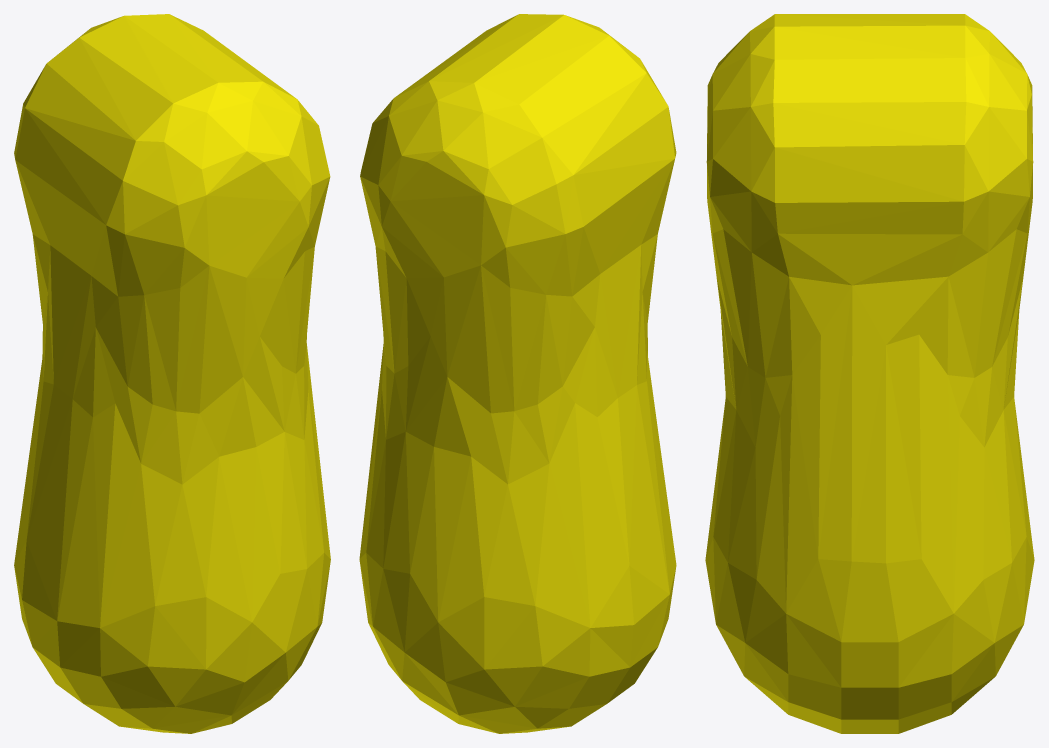
3 renders of one model, left to right at view 1: azimuth 30°, elevation 25°; view 2: azimuth 150°, elevation 25°; view 3: azimuth 270°, elevation 25°, orthographic. The views are drawn at different scales.
Visible parts, largest first — view 1: th_middle; view 2: th_middle; view 3: th_middle.
Boxes of the visible parts, x1,y1,x2,y2 form: th_middle: [14, 14, 330, 733]; th_middle: [359, 14, 676, 733]; th_middle: [705, 14, 1034, 733].
Bounding box in the file's own units: 21.6 × 22.3 × 51.65.
